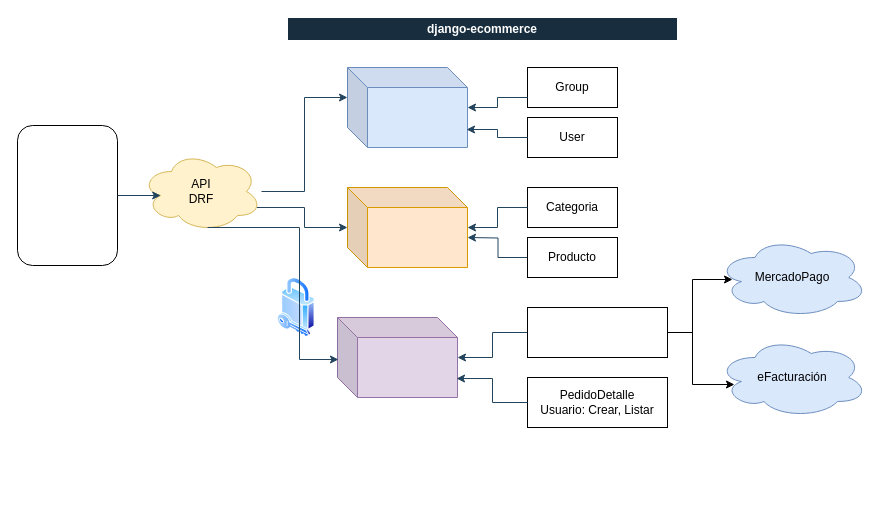
Some shapes in this 885 by 525 pixel diagram are drawn without their labels. Each missing label, with the centre of its shape:
almacen: point 407,227
APP REACT Cliente: point 67,195
autenticacion: point 407,107
Pedido Usuario: Crear, Listar, Actualizar el estado: point 597,332
ventas: point 397,357
